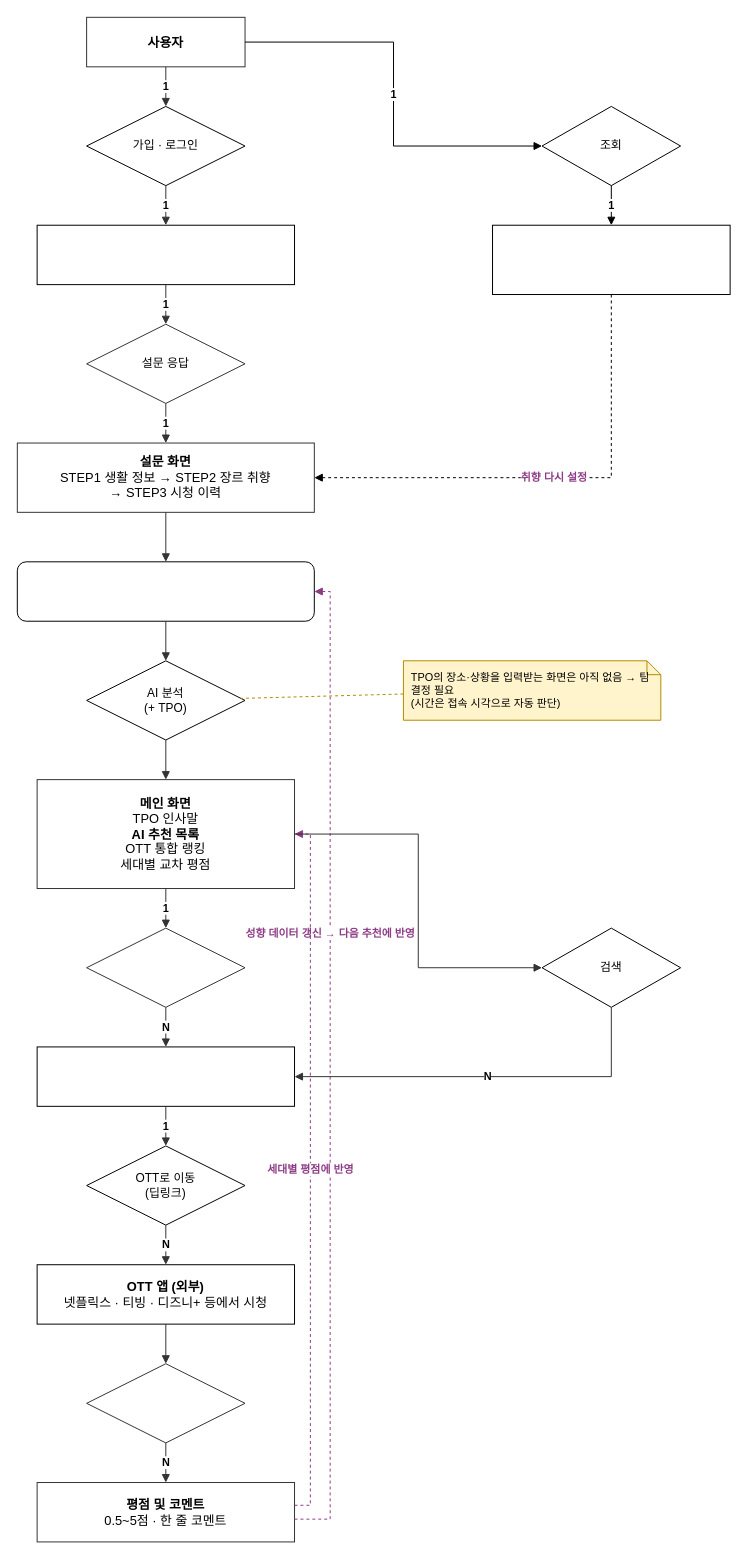
This 747x1559 diagram has some shape labels left out. Here are the shapes that lost their labels. From the top down, the box of each, then its label:
(36, 224, 295, 285): 회원가입 / 로그인 화면 이메일 · 비밀번호 · 약관 동의
(492, 224, 730, 295): 내 프로필 화면 내 정보 · 취향 다시 설정 최근 평점 · 시청 이력
(16, 561, 314, 621): 사용자 성향 파악 연령대 · 직업 · 선호/비선호 장르 · 시청 이력
(86, 927, 245, 1007): 작품 선택
(36, 1046, 295, 1106): 작품 상세 화면 줄거리 · 평점 · 볼 수 있는 OTT
(86, 1363, 245, 1443): 평가
